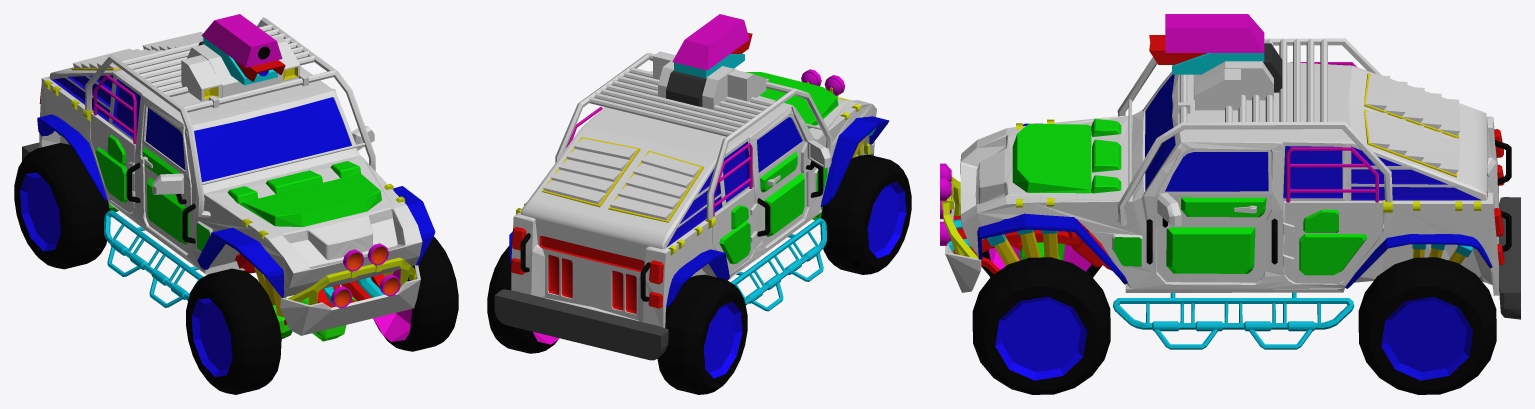
Rendered from ikinci_prototip.FBX.
3 renders of one model, left to right at view 1: azimuth 30°, elevation 25°; view 2: azimuth 150°, elevation 25°; view 3: azimuth 270°, elevation 25°, orthographic. The views are drawn at different scales.
Visible parts, largest first — view 1: RigModels_JeepCar, fr, rr, fl; view 2: RigModels_JeepCar, rr, fr, rl; view 3: RigModels_JeepCar, rl, fl, fr.
Part boxes in pixels (box(x1,y1,x2,y2)): RigModels_JeepCar: box(22, 14, 435, 341); fr: box(186, 268, 281, 394); rr: box(14, 143, 109, 269); fl: box(373, 237, 458, 351); RigModels_JeepCar: box(494, 14, 889, 360); rr: box(657, 274, 747, 394); fr: box(821, 154, 911, 274); rl: box(487, 246, 558, 353); RigModels_JeepCar: box(940, 14, 1520, 349); rl: box(1358, 257, 1496, 394); fl: box(972, 257, 1110, 394); fr: box(981, 244, 1102, 277).
Bounding box in the file's own units: 45.68 × 55.51 × 92.06.
